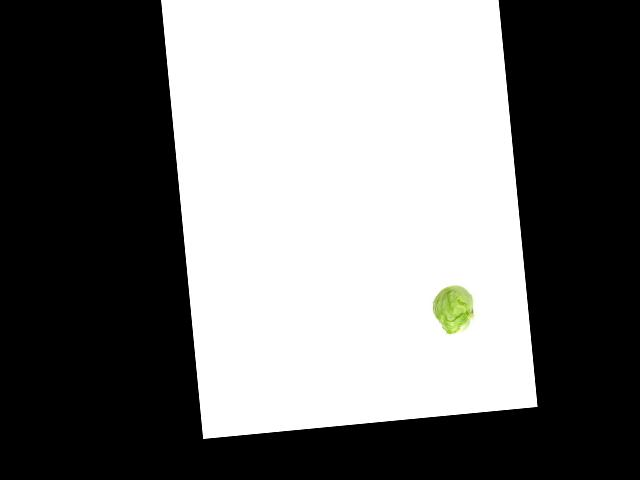lettuce: (426, 279, 476, 341)
